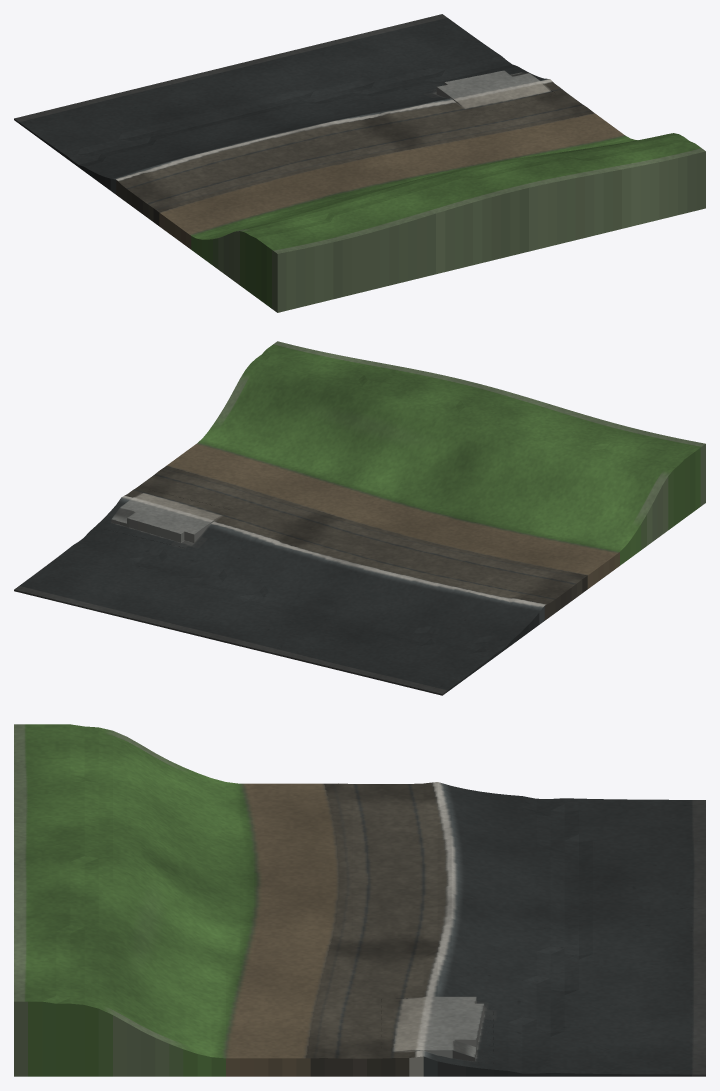
The model's file is harbour_ground_1950.fbx.
The picture shows the model from 3 angles, top to bottom: view 1: azimuth 30°, elevation 25°; view 2: azimuth 150°, elevation 25°; view 3: azimuth 270°, elevation 25°; orthographic projection. The views are drawn at different scales.
Visible parts, largest first — view 1: harbour_ground_1950; view 2: harbour_ground_1950; view 3: harbour_ground_1950.
Part boxes in pixels (bbox=[...]): harbour_ground_1950: bbox=[14, 14, 705, 312]; harbour_ground_1950: bbox=[14, 341, 705, 695]; harbour_ground_1950: bbox=[14, 724, 705, 1076].
Bounding box in the file's own units: 9200 × 1310 × 9800.
